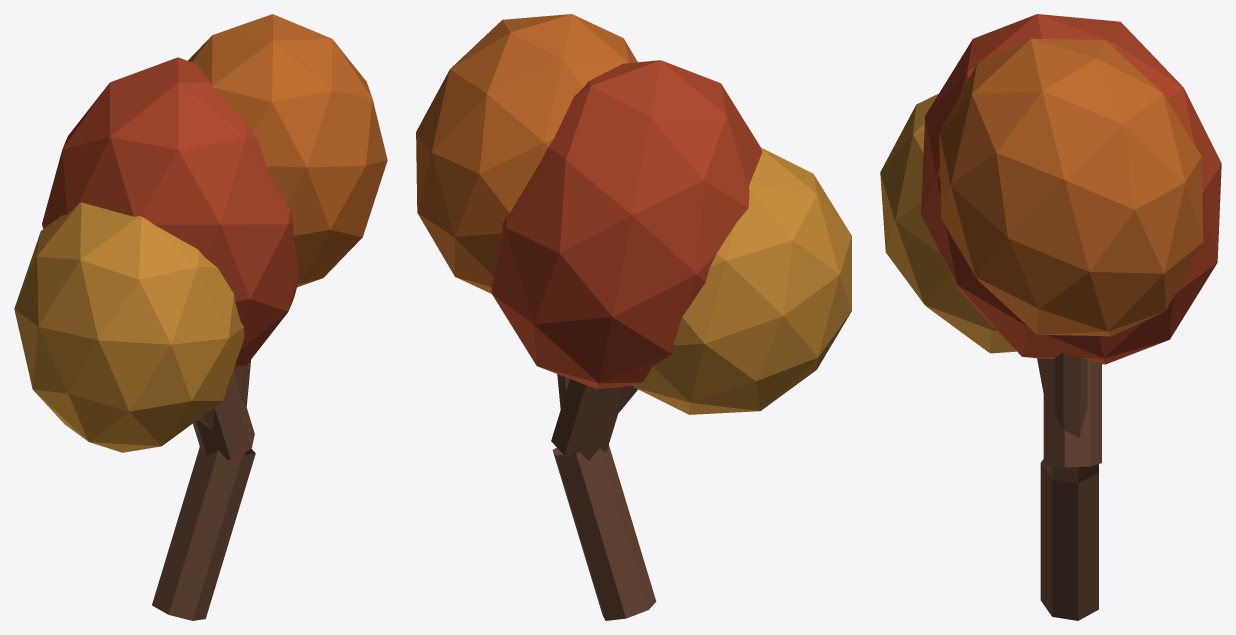
3 renders of one model, left to right at view 1: azimuth 30°, elevation 25°; view 2: azimuth 150°, elevation 25°; view 3: azimuth 270°, elevation 25°, orthographic. The views are drawn at different scales.
Visible parts, largest first — view 1: T10_红叶斜枝树; view 2: T10_红叶斜枝树; view 3: T10_红叶斜枝树.
Boxes of the visible parts, bbox=[...] form: T10_红叶斜枝树: bbox=[14, 14, 387, 620]; T10_红叶斜枝树: bbox=[416, 14, 851, 620]; T10_红叶斜枝树: bbox=[880, 14, 1221, 620].
Size of the model in its own units: 1.33 by 1.97 by 0.9988.
